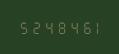eight: (53, 20, 64, 34)
five: (17, 20, 28, 34)
four: (41, 20, 52, 34), (65, 20, 76, 34)
one: (89, 20, 100, 34)
six: (77, 20, 88, 34)
two: (29, 20, 40, 34)
